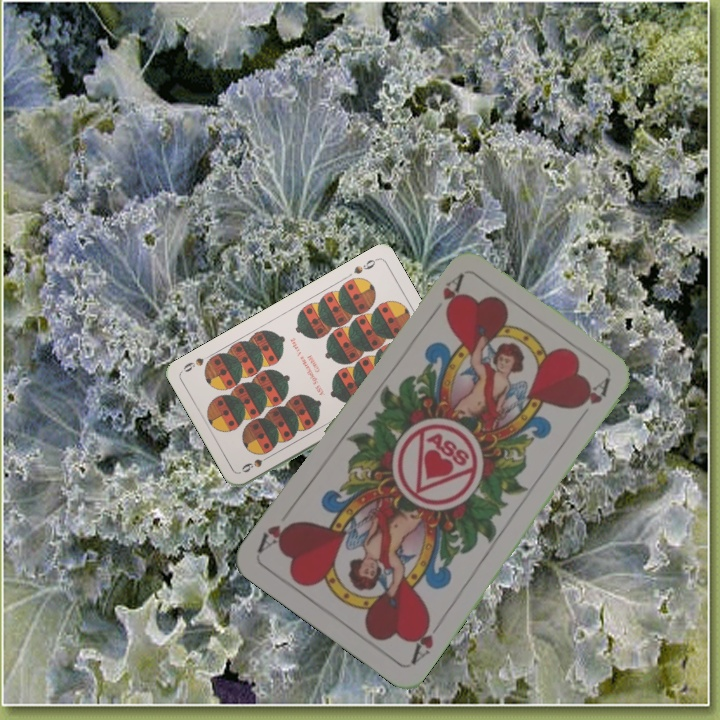HA: (425, 270, 466, 322), (406, 612, 436, 667)
S9: (238, 450, 275, 475), (350, 254, 380, 277)
